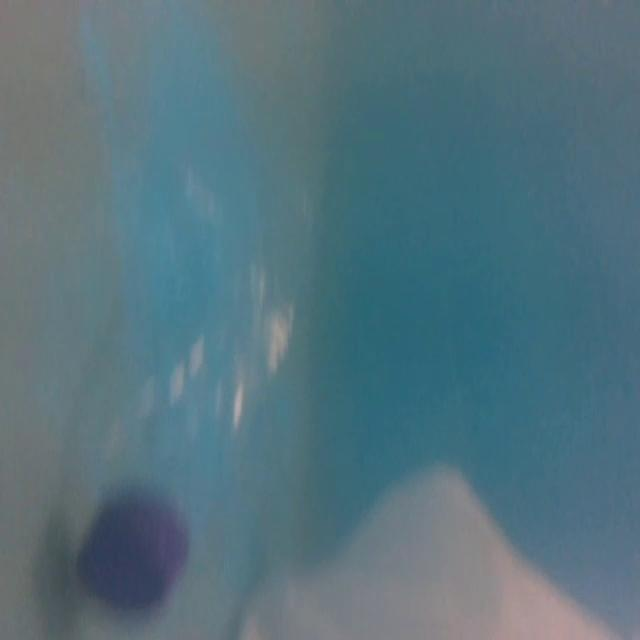plastic bottle: (89, 258, 262, 618)
